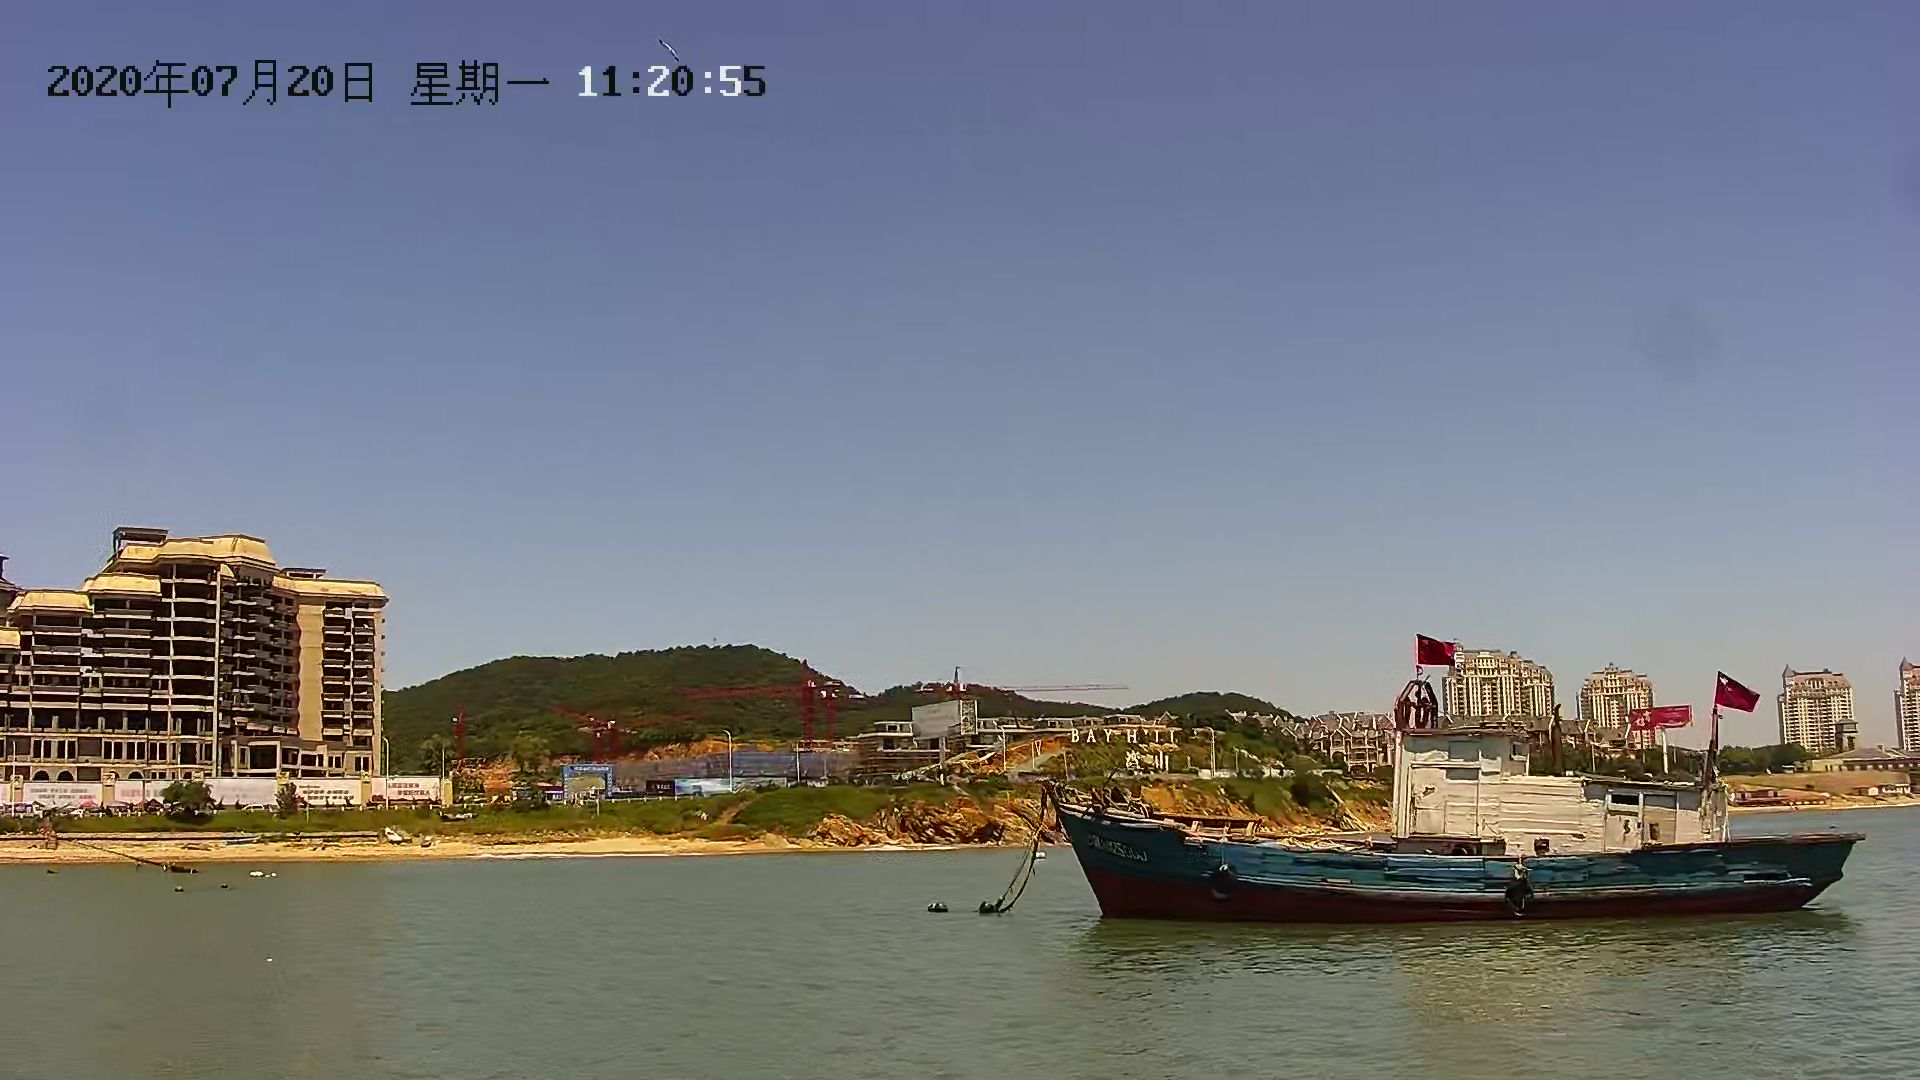boat: (1026, 688, 1853, 944)
